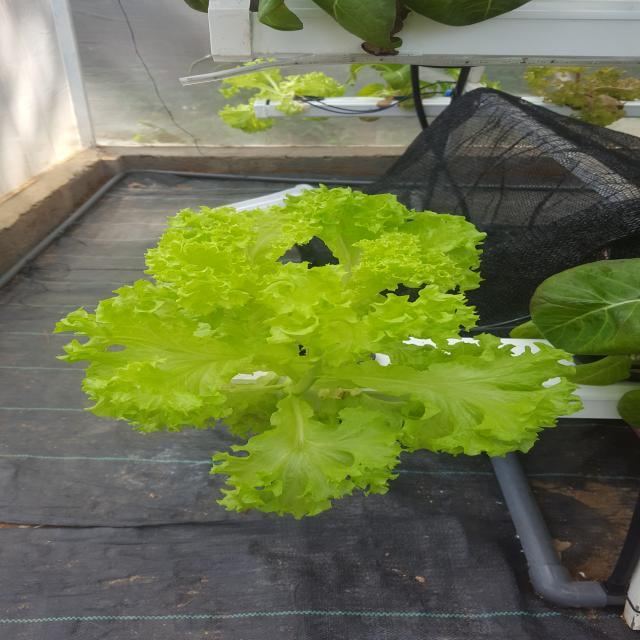Lettuce-Ready-to-Harvest: (47, 186, 578, 524)
